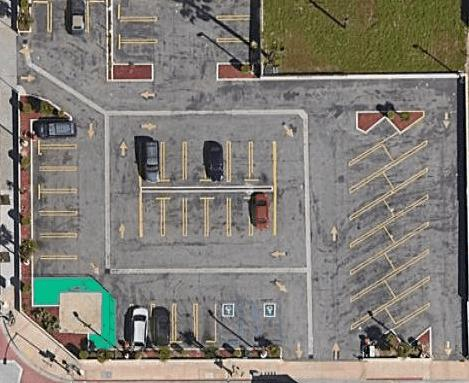parkingspot: (345, 115, 401, 348), (378, 112, 433, 349), (30, 118, 81, 279), (138, 187, 276, 240), (137, 138, 277, 190), (114, 299, 241, 349), (111, 2, 161, 65), (213, 2, 256, 66), (27, 2, 108, 35), (255, 297, 281, 349)
